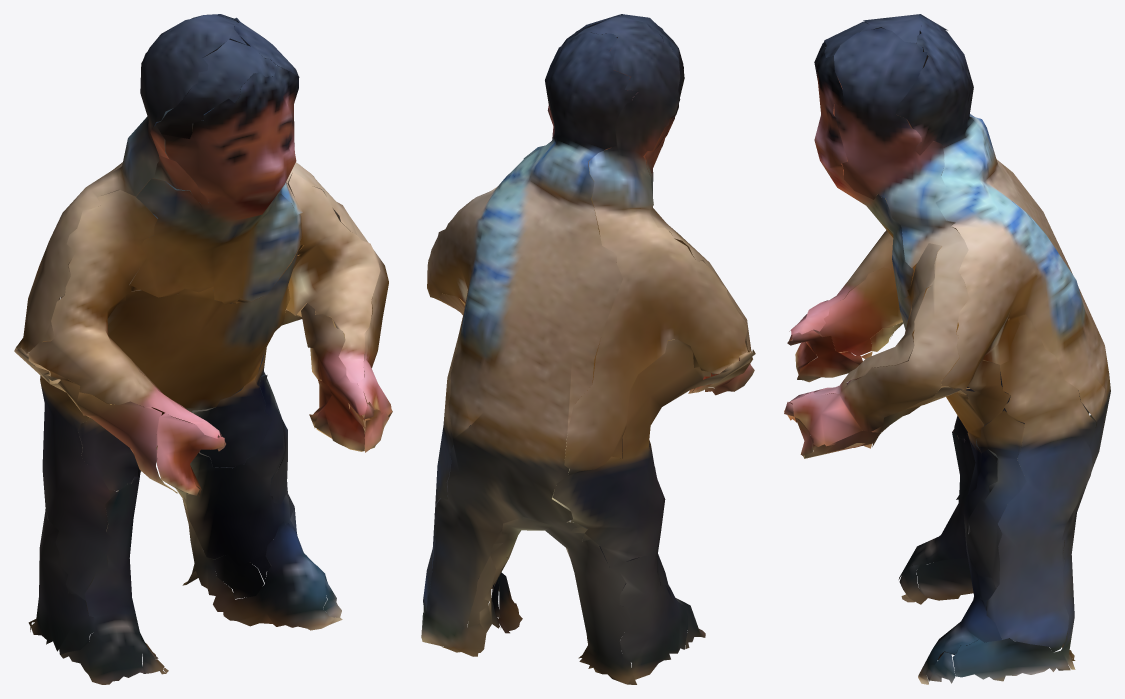
The model's file is dollE.glb.
3 views of the same model, side by side, from view 1: azimuth 30°, elevation 25°; view 2: azimuth 150°, elevation 25°; view 3: azimuth 270°, elevation 25° (orthographic). The views are drawn at different scales.
Parts seen in each view (by area): view 1: Geom; view 2: Geom; view 3: Geom.
Boxes of the visible parts, x1,y1,x2,y2 form: Geom: [14, 14, 392, 684]; Geom: [421, 14, 755, 684]; Geom: [784, 14, 1110, 684].
Bounding box in the file's own units: 0.0473 × 0.0825 × 0.0405.
Materials: 1 (1 with a texture image).
